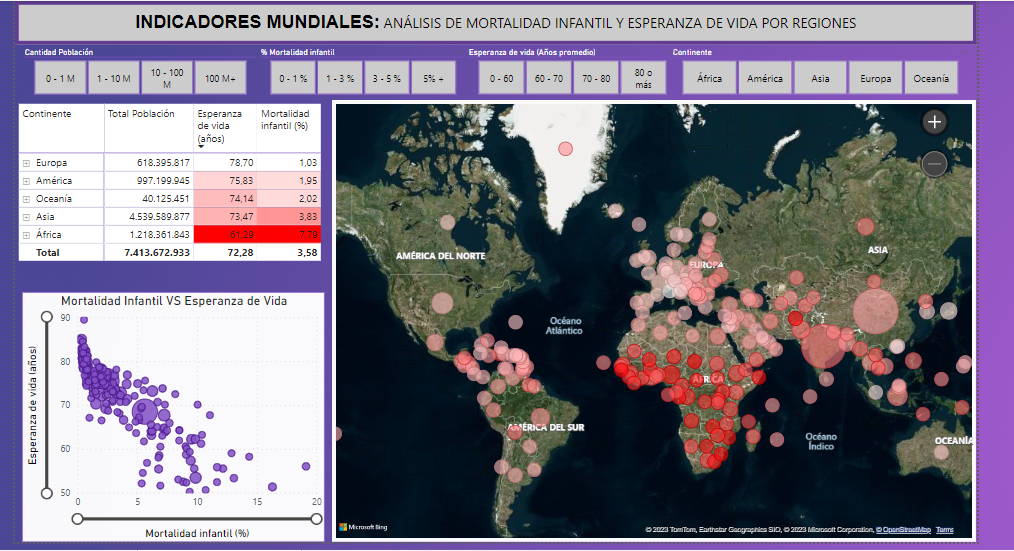

Layout of this report page (visuals, bound fields, positions):
{"tool":"powerbi","page":{"name":"Indicadores Mundiales","canvas":[1280,720],"ordinal":1},"visuals":[{"type":"pivotTable","fields":{"Values":["Sum(Population.Population)","Avg(Esperanza de vida.Esperanza de vida)","Avg(Mortalidad infantil.Porcentaje mortalidad infantil)"],"Rows":["Paises.Continente","Paises.Pais"]},"box":[0,132.1,422.5,254.6],"z":0},{"type":"slicer","fields":{"Values":["Population.Cantidad Población"]},"box":[0,57.8,331.7,74.3],"z":1000,"group":"g1"},{"type":"slicer","fields":{"Values":["Paises.Continente"]},"box":[863,57.8,417,74.3],"z":2000,"group":"g1"},{"type":"map","fields":{"Category":["Paises.Pais"],"Size":["Sum(Población.Population)"]},"box":[422.5,132.1,857.5,587.7],"z":4000},{"type":"slicer","fields":{"Values":["Esperanza de vida.Esperanza de vida (Años promedio)"]},"box":[590.5,57.8,300,74.3],"z":4001,"group":"g1"},{"type":"slicer","fields":{"Values":["Mortalidad infantil.% mortalidad infantil"]},"box":[313.8,57.8,297.3,74.3],"z":4002,"group":"g1"},{"type":"scatterChart","title":"Mortalidad Infantil VS Esperanza de Vida","fields":{"Y":["Avg(Esperanza de vida.Esperanza de vida)"],"Category":["Paises.Pais"],"X":["Sum(Mortalidad infantil.Porcentaje mortalidad infantil)"],"Size":["Sum(Población.Population)"]},"box":[9.6,386.8,403.3,333.1],"z":4003},{"type":"group","id":"g1","title":"Grupo 1","box":[0,57.8,1280,74.3],"z":4004},{"type":"shape","box":[0,0,1280,57.8],"z":4005},{"type":"textbox","box":[0,9.6,1280,48.2],"z":4006}]}

Visuals, with their boxes on the page's 1280x720 design canvas (x1, y1, x2, y2). These are canvas units, not pixel positions in the 1014x551 screenshot, which may show the page scaled, cropped or inside an application window:
pivotTable - Sum(Population.Population) x Avg(Esperanza de vida.Esperanza de vida): (0,132,422,387)
slicer - Population.Cantidad Población: (0,58,332,132)
slicer - Paises.Continente: (863,58,1280,132)
map - Paises.Pais x Sum(Población.Population): (422,132,1280,720)
slicer - Esperanza de vida.Esperanza de vida (Años promedio): (590,58,890,132)
slicer - Mortalidad infantil.% mortalidad infantil: (314,58,611,132)
"Mortalidad Infantil VS Esperanza de Vida" scatterChart: (10,387,413,720)
"Grupo 1" group: (0,58,1280,132)
shape: (0,0,1280,58)
textbox: (0,10,1280,58)
